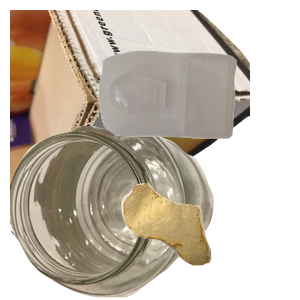cardboard: (10, 10, 250, 190)
glass: (10, 126, 216, 300)
plastic: (96, 48, 300, 179)
trash: (119, 181, 300, 300)
